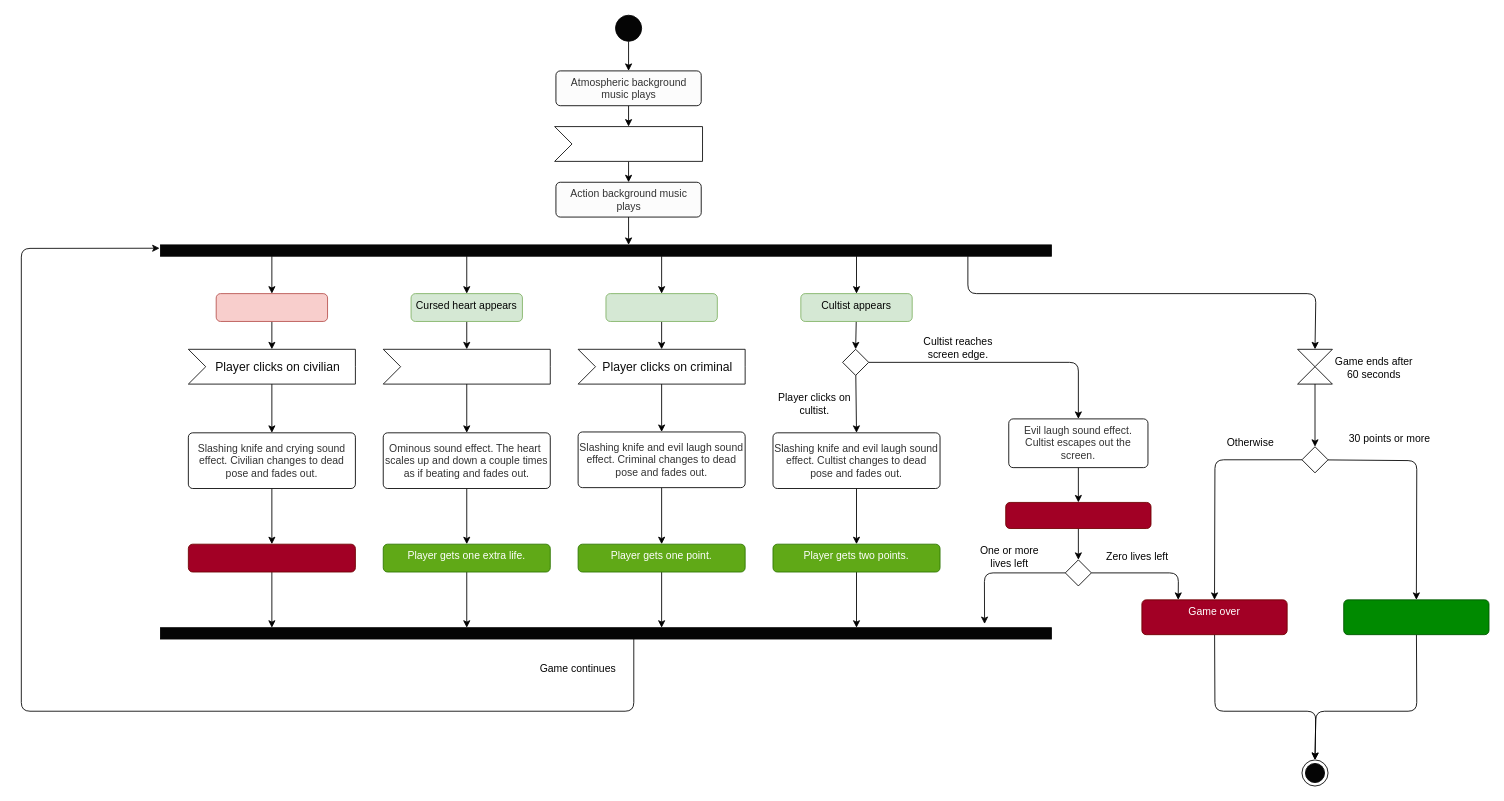
This 1504x801 diagram has some shape labels left out. Each missing label, with the centre of its shape:
Civilian appears: (x=271, y=307)
Criminal appears: (x=661, y=307)
Level complete: (x=1416, y=617)
Lose one life: (x=1078, y=515)
Player clicks on cursed heart: (x=466, y=366)
Player loses three points.: (x=271, y=557)
Player presses play: (x=628, y=143)
